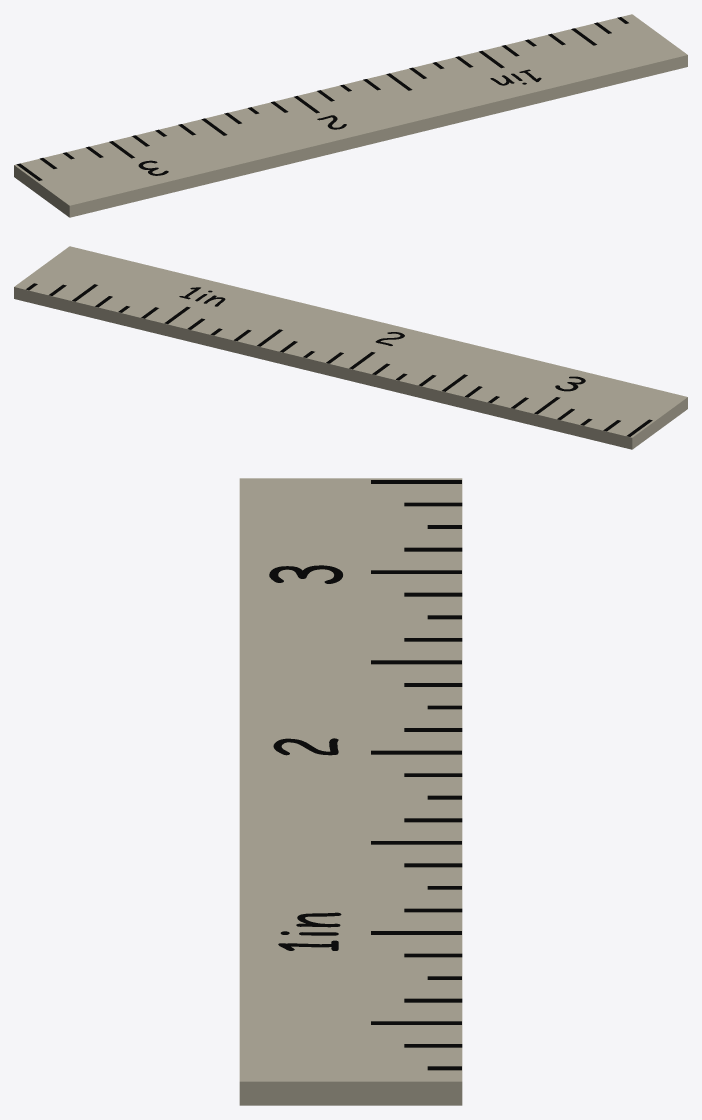
The model's file is ruler.fbx.
The picture shows the model from 3 angles, top to bottom: view 1: azimuth 30°, elevation 25°; view 2: azimuth 150°, elevation 25°; view 3: azimuth 270°, elevation 25°; orthographic projection. The views are drawn at different scales.
Visible parts, largest first — view 1: polySurface35; view 2: polySurface35; view 3: polySurface35.
Part boxes in pixels (bbox=[...]): polySurface35: bbox=[14, 14, 687, 217]; polySurface35: bbox=[14, 246, 687, 449]; polySurface35: bbox=[239, 478, 462, 1105].
Bounding box in the file's own units: 268 × 5.96 × 41.76.
